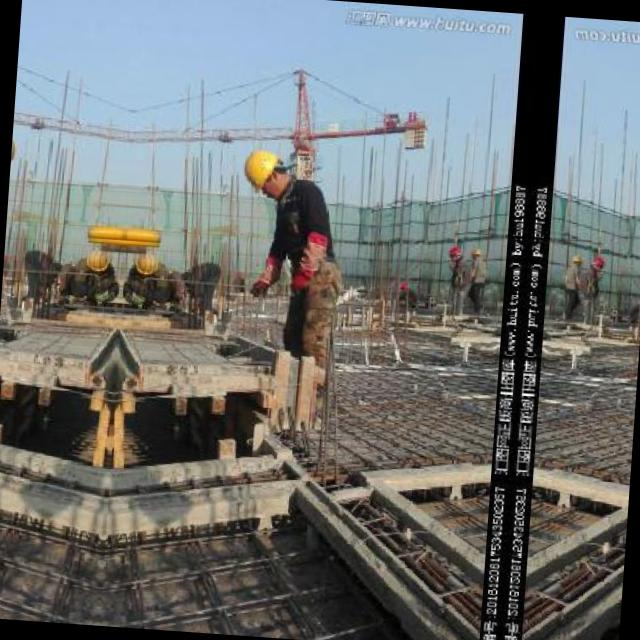helmet: (238, 145, 288, 194), (129, 249, 158, 274), (84, 246, 112, 271), (444, 240, 462, 260), (590, 251, 608, 271), (565, 250, 583, 268), (468, 244, 486, 261), (398, 275, 408, 290)
